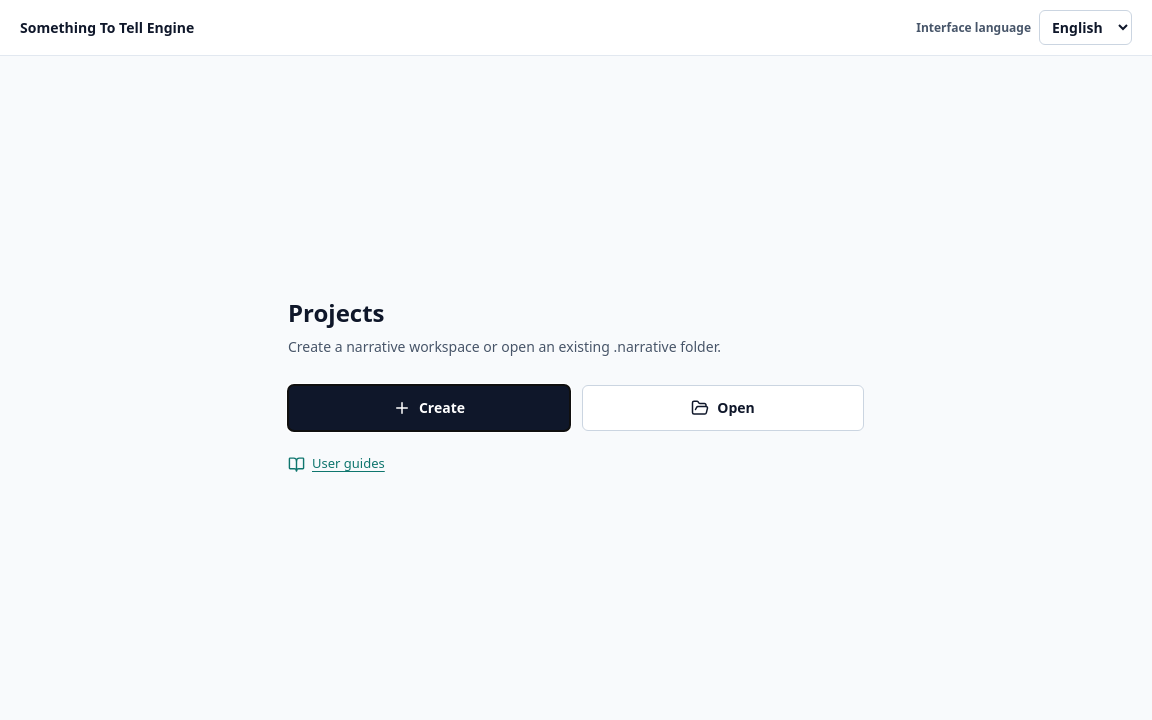
Test: App shell, sessions, and playback › starts without a project and resolves the default project directory
This screenshot has width=1152, height=720.
Check: the heading "Projects" is shown, box [288,296,384,329]
Click the button "Open" at [723, 408], box [582,385,864,431]
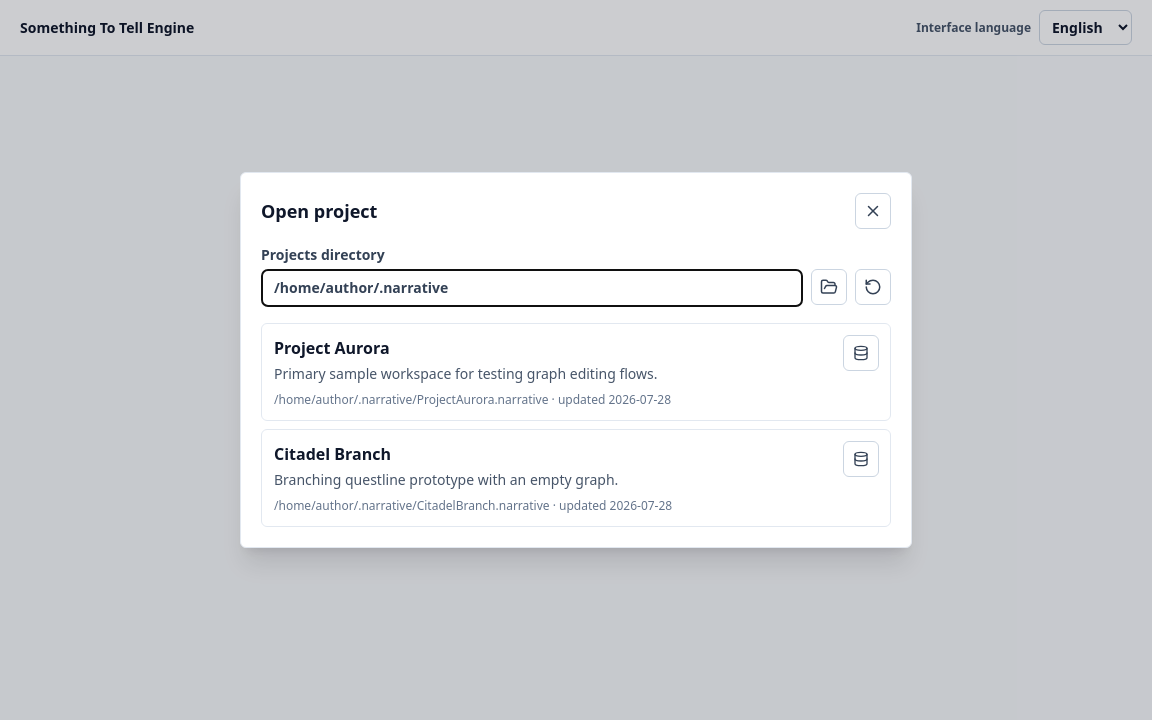
Check: the heading "Open project" is shown, box [261,197,377,225]
Check: the field labelled "Projects directory" holds "/home/author/.narrative", box [261,269,803,307]
Check: the button "Project Aurora" is shown, box [261,323,891,421]
